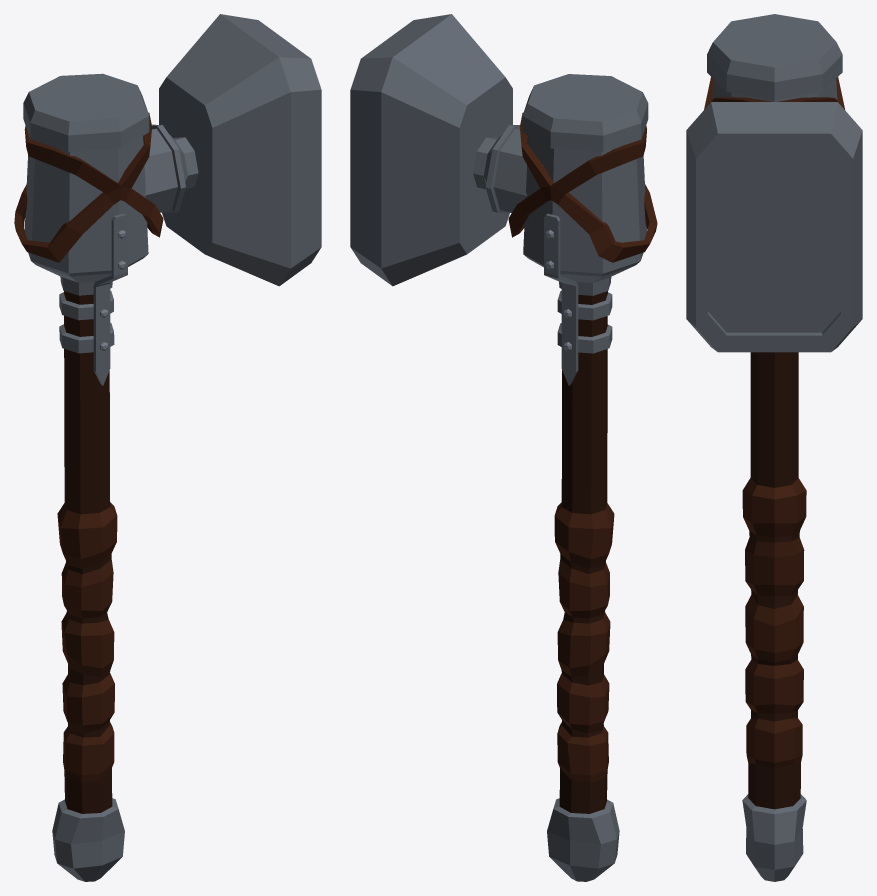
The model's file is Hammer_Small.glb.
3 views of the same model, side by side, from view 1: azimuth 30°, elevation 25°; view 2: azimuth 150°, elevation 25°; view 3: azimuth 270°, elevation 25° (orthographic). The views are drawn at different scales.
Parts seen in each view (by area): view 1: Hammer_small; view 2: Hammer_small; view 3: Hammer_small.
Boxes of the visible parts, <box> form: Hammer_small: <box>14,14,321,881</box>; Hammer_small: <box>350,14,657,881</box>; Hammer_small: <box>686,14,862,881</box>.
Size of the model in its own units: 0.3434 by 1 by 0.1861.
